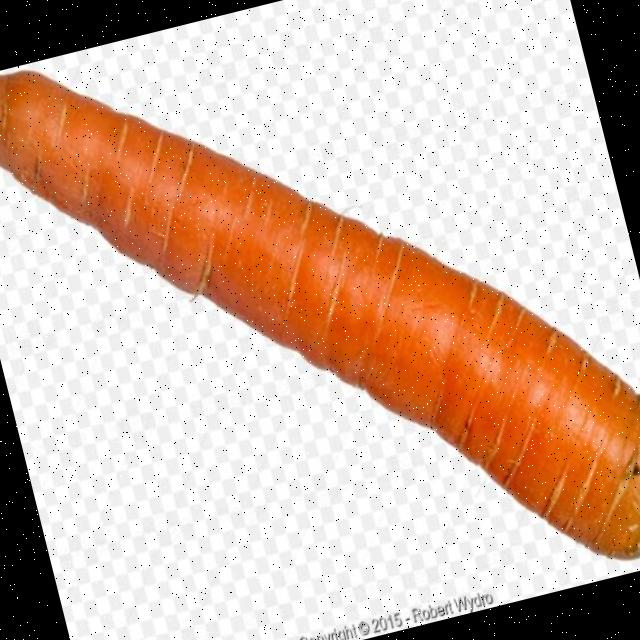carrot: (0, 72, 640, 558)
